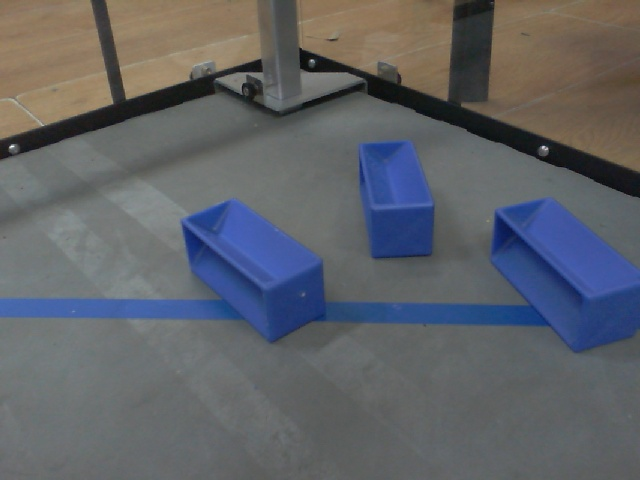BlueSample: (487, 198, 640, 358), (178, 193, 331, 347), (354, 133, 438, 263)
